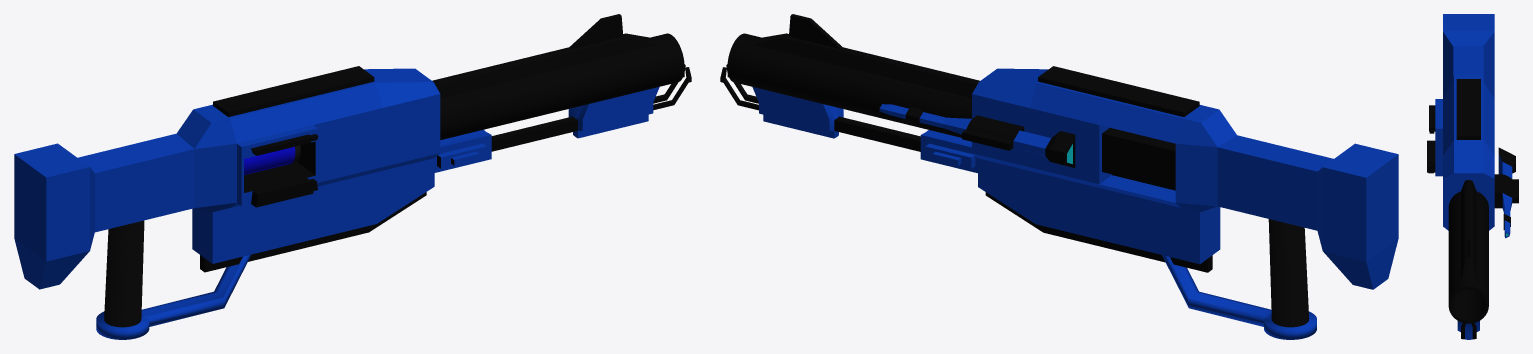
File: AlienWeapon.obj
3 renders of one model, left to right at view 1: azimuth 30°, elevation 25°; view 2: azimuth 150°, elevation 25°; view 3: azimuth 270°, elevation 25°, orthographic. The views are drawn at different scales.
Visible parts, largest first — view 1: Cube_Cube.001, Cylinder, Cylinder.001, Cylinder.002; view 2: Cube_Cube.001, Cylinder, Cylinder.001; view 3: Cube_Cube.001, Cylinder.
Part boxes in pixels (x1=…): Cube_Cube.001: x1=14, y1=66, x2=440, y2=289; Cylinder: x1=432, y1=14, x2=691, y2=172; Cylinder.001: x1=96, y1=220, x2=250, y2=339; Cylinder.002: x1=244, y1=145, x2=300, y2=175; Cube_Cube.001: x1=879, y1=66, x2=1398, y2=289; Cylinder: x1=720, y1=14, x2=979, y2=173; Cylinder.001: x1=1162, y1=219, x2=1316, y2=339; Cube_Cube.001: x1=1427, y1=14, x2=1518, y2=238; Cylinder: x1=1448, y1=180, x2=1488, y2=339.
Bounding box in the file's own units: 30.19 × 8.68 × 4.54.
